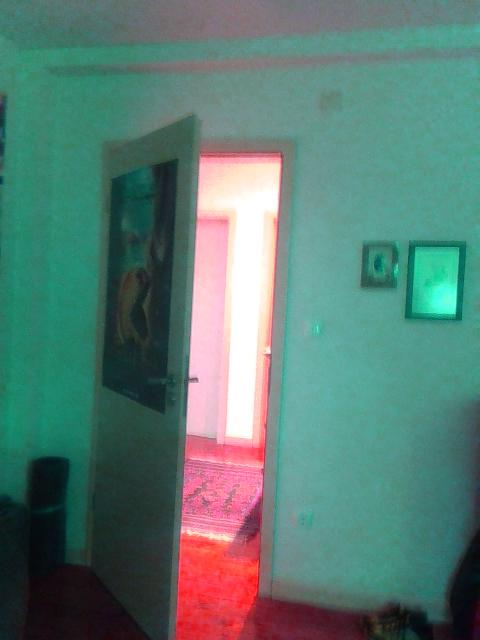semi_door: (83, 110, 296, 639)
